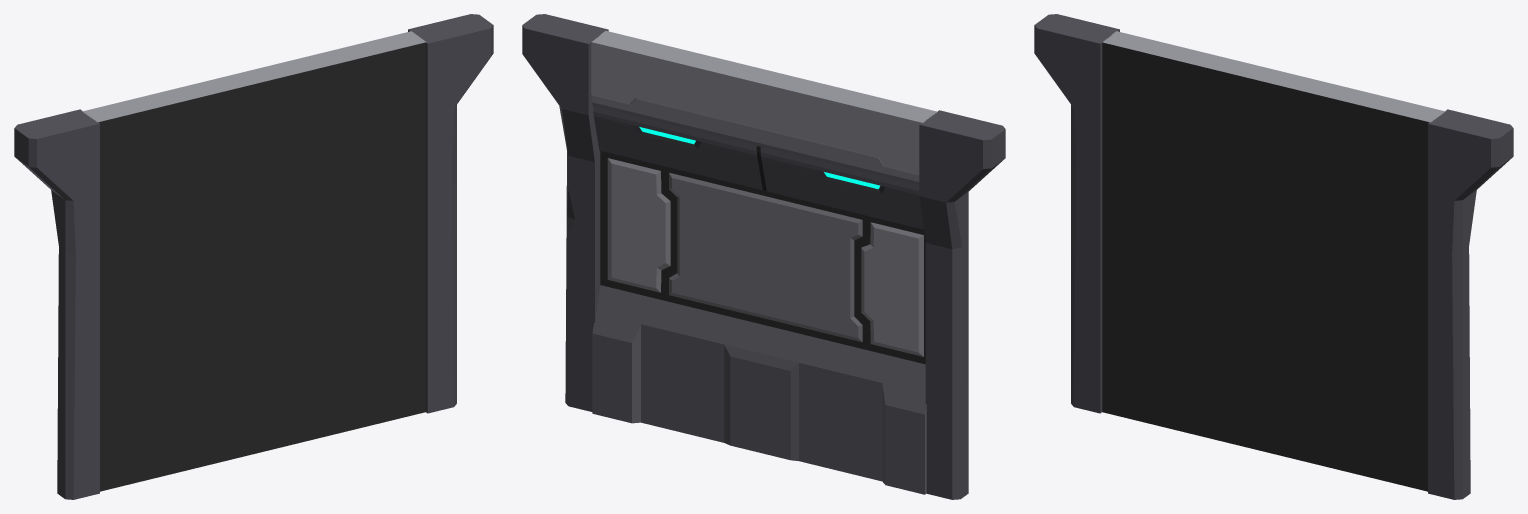
File: bridge_wall_02.glb
The picture shows the model from 3 angles, left to right: view 1: azimuth 30°, elevation 25°; view 2: azimuth 150°, elevation 25°; view 3: azimuth 330°, elevation 25°; orthographic projection.
Visible parts, largest first — view 1: model; view 2: model; view 3: model.
Part boxes in pixels (x1,y1,x2,y2): model: (14, 14, 493, 499); model: (522, 14, 1005, 499); model: (1034, 14, 1513, 499).
Size of the model in its own units: 6.57 by 5 by 0.4822.
1 material, 1 textured.
